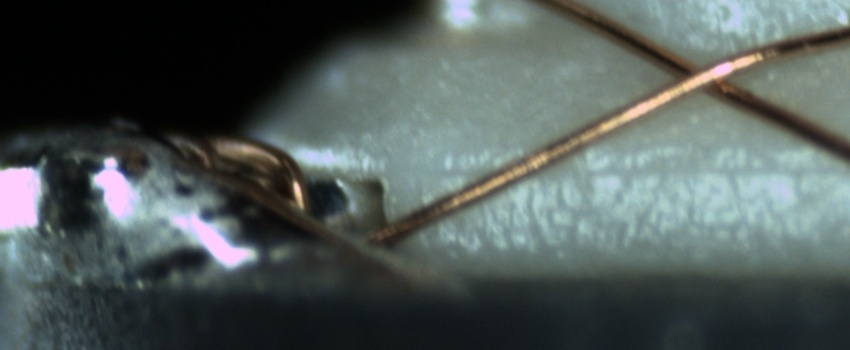CL: (648, 43, 751, 105)
DL: (411, 136, 850, 204)
TE: (174, 128, 318, 233)
